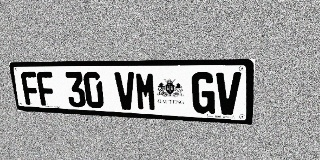0: (83, 72, 104, 109)
3: (65, 72, 86, 108)
F: (36, 72, 57, 106), (20, 72, 41, 105)
G: (192, 72, 215, 114)
M: (135, 72, 157, 111)
V: (216, 72, 241, 115), (114, 72, 136, 110)
